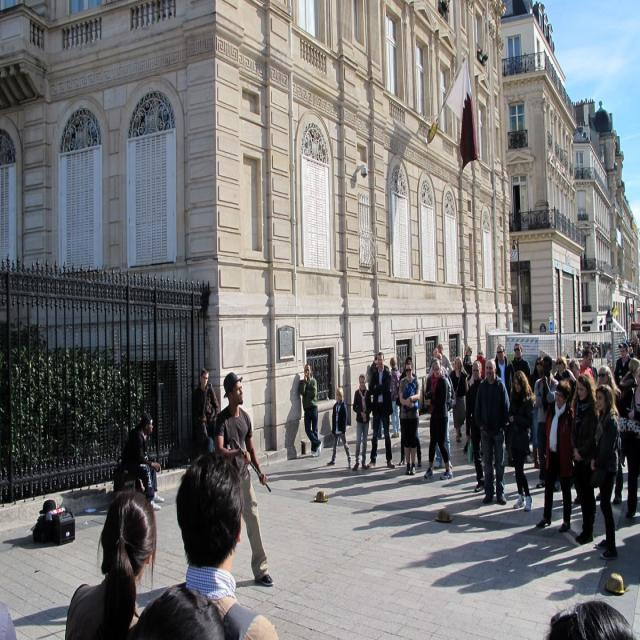body: (288, 444, 640, 640), (0, 444, 289, 640), (211, 371, 275, 588), (533, 378, 576, 534), (589, 382, 622, 560), (472, 358, 511, 506), (571, 372, 600, 546), (464, 358, 497, 497), (504, 368, 535, 514), (121, 412, 165, 510), (422, 356, 454, 481), (533, 354, 561, 494), (366, 351, 396, 470), (398, 358, 422, 476), (511, 342, 534, 464), (397, 355, 422, 467), (297, 362, 323, 458), (325, 386, 353, 470), (191, 367, 221, 438), (352, 373, 373, 472), (570, 335, 640, 364), (448, 356, 469, 443), (530, 354, 544, 468), (597, 363, 621, 425), (283, 372, 303, 446), (552, 354, 578, 409), (618, 355, 640, 418), (494, 343, 516, 402), (389, 355, 401, 439), (623, 363, 640, 422), (614, 341, 632, 384), (579, 348, 597, 386), (437, 342, 453, 378), (462, 344, 473, 389), (428, 352, 447, 378), (476, 350, 486, 380), (567, 356, 580, 378), (429, 347, 439, 370), (369, 354, 378, 374), (376, 419, 384, 441)
